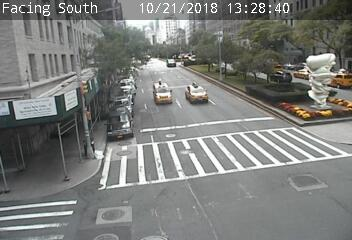car: (186, 83, 207, 104), (153, 81, 171, 105), (166, 59, 175, 68)
